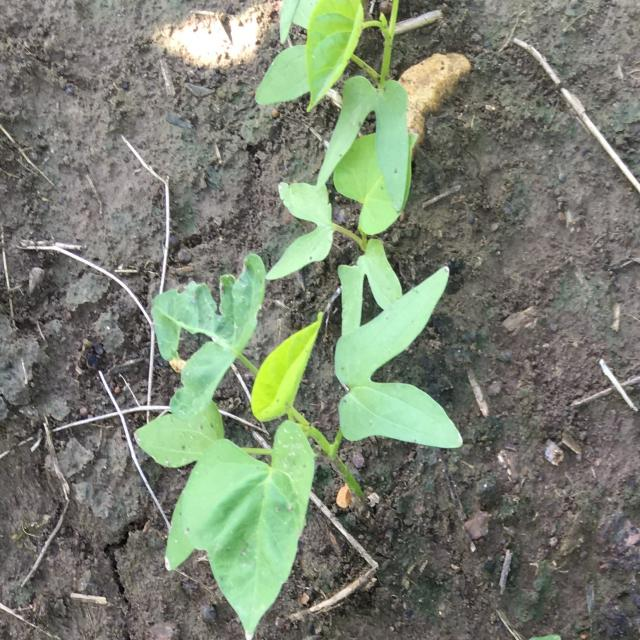MorningGlory: (135, 254, 462, 637), (254, 0, 419, 337)
